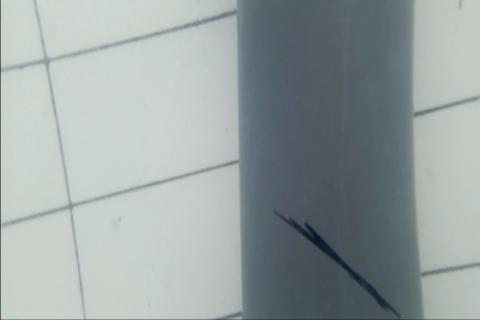keretakan: (270, 205, 404, 319)
